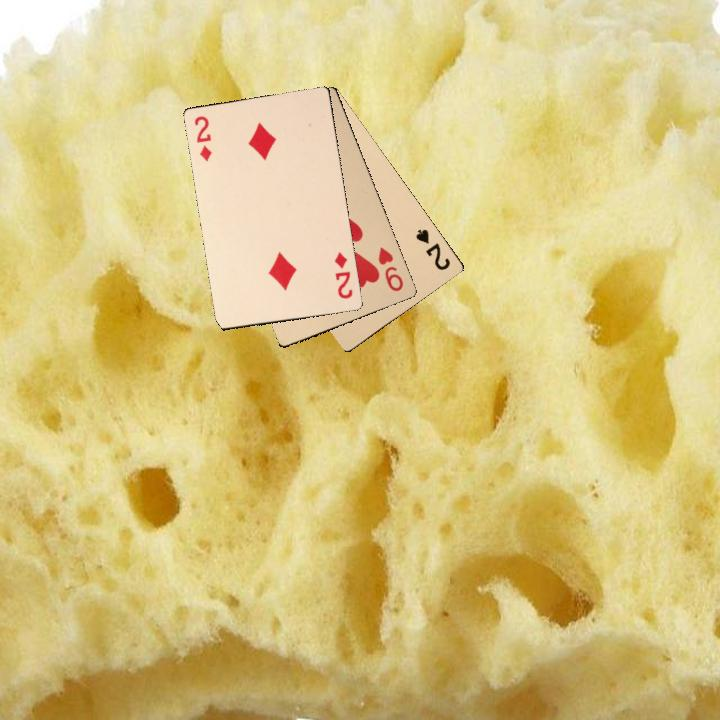2d: (331, 249, 355, 301), (190, 112, 214, 164)
2s: (412, 225, 453, 273)
9h: (374, 243, 406, 294)
